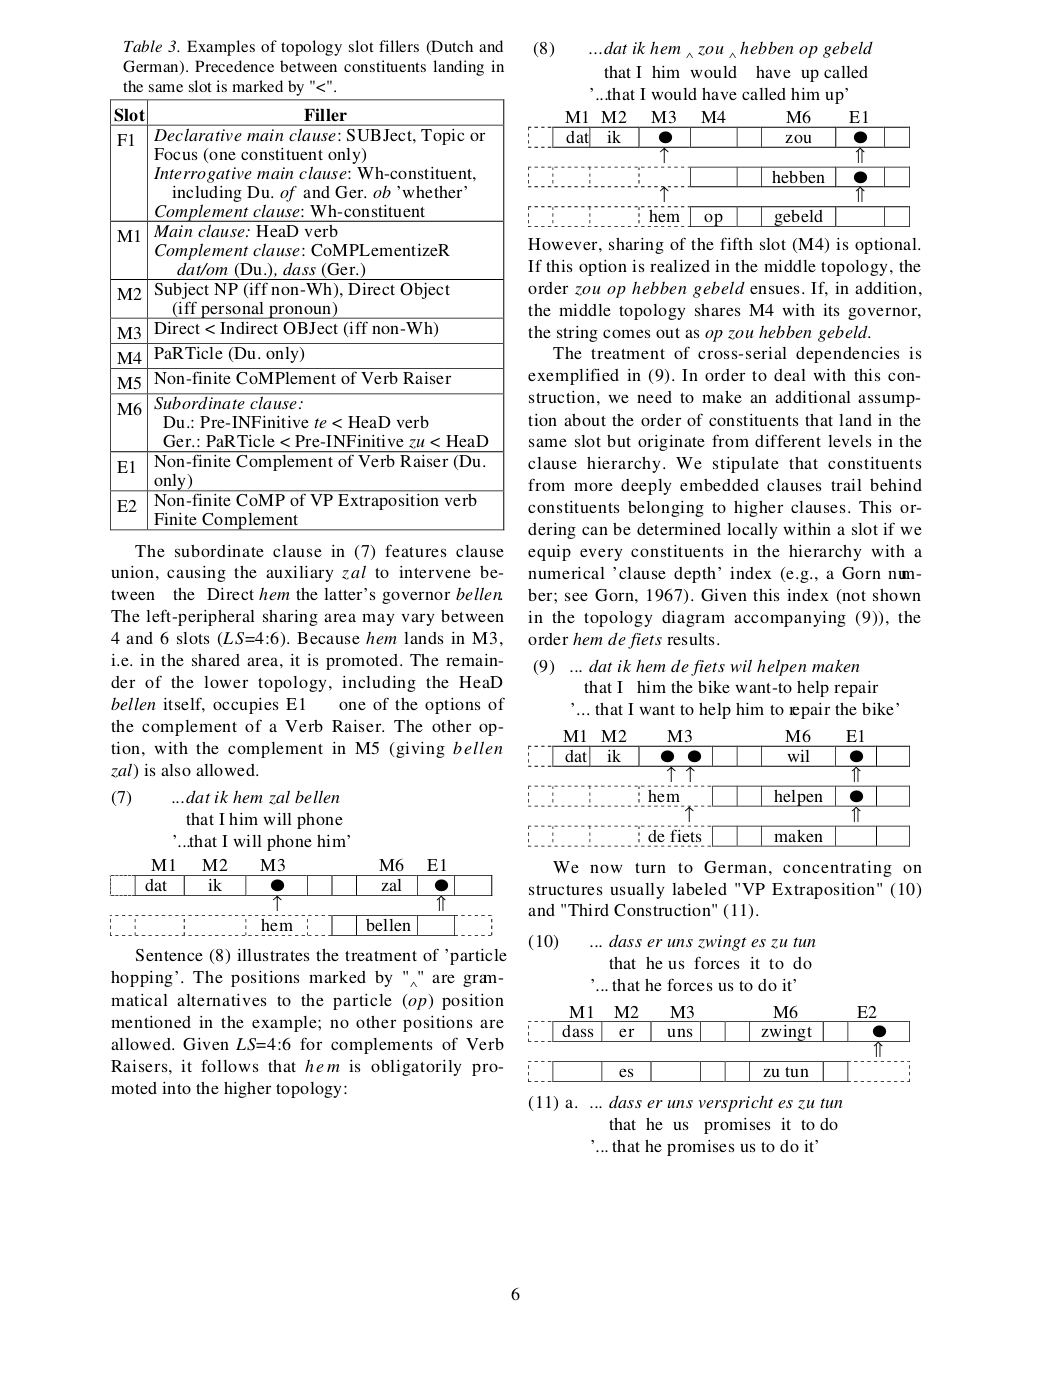Table: (110, 99, 504, 530)
figure: (528, 729, 909, 846), (528, 110, 909, 226), (109, 858, 491, 935), (528, 1005, 909, 1081)
